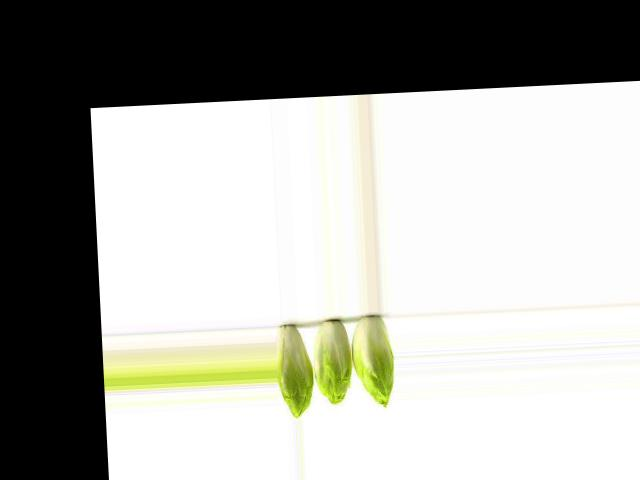lettuce: (351, 310, 396, 409)
